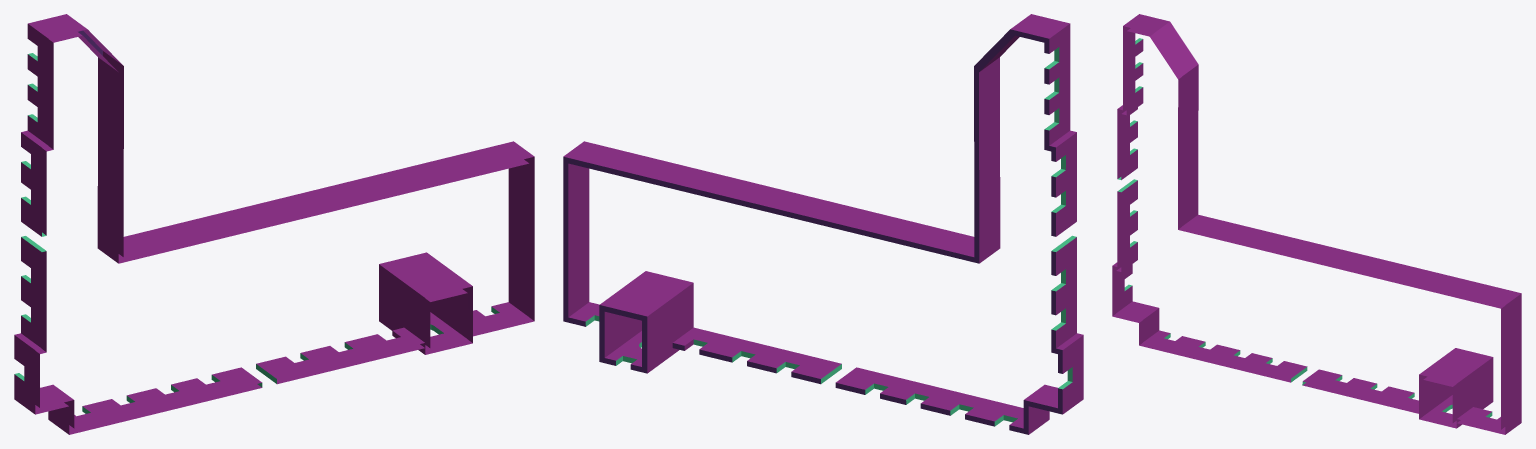
The model's file is Ratusz Tier 1.fbx.
3 renders of one model, left to right at view 1: azimuth 30°, elevation 25°; view 2: azimuth 150°, elevation 25°; view 3: azimuth 330°, elevation 25°, orthographic. The views are drawn at different scales.
Visible parts, largest first — view 1: Ratusz_obj_0; view 2: Ratusz_obj_0; view 3: Ratusz_obj_0.
Boxes of the visible parts, x1,y1,x2,y2 form: Ratusz_obj_0: (14, 14, 534, 434); Ratusz_obj_0: (563, 14, 1083, 434); Ratusz_obj_0: (1112, 14, 1521, 434).
Size of the model in its own units: 3.87 by 3.02 by 0.6222.
